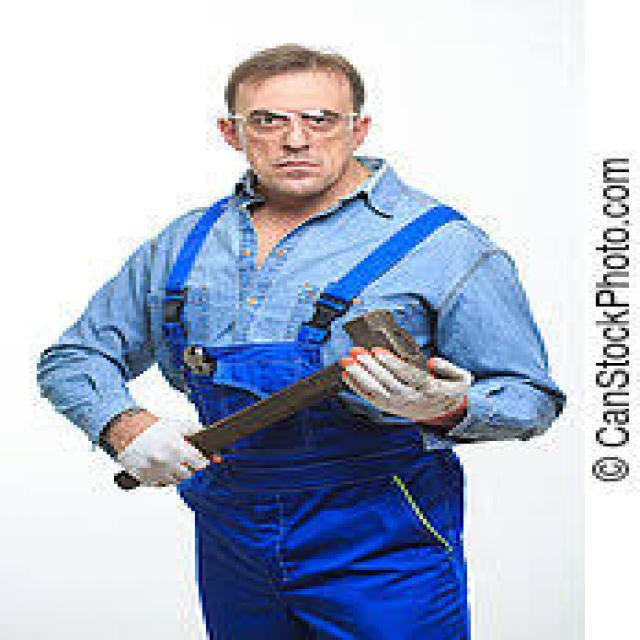hammer: (102, 304, 442, 501)
